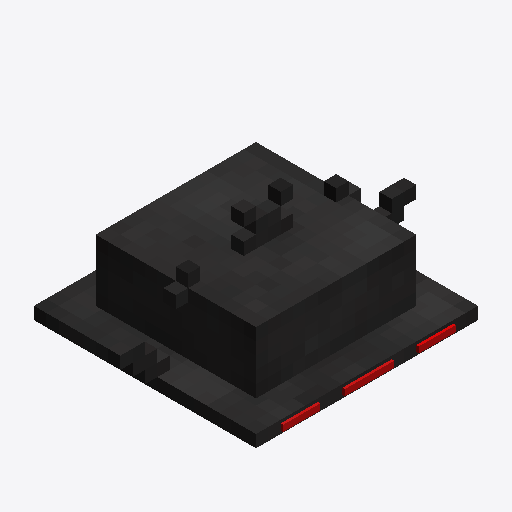
Isometric view (azimuth 45°, elevation 35.3°) of a Minecraft model made of 22 cuboids, textured from the same repository.
Visible parts, largest first — top, bottom, black (×7), 1 cube black (×2).
Boxes of the visible parts, x1,y1,x2,y2 form: top: [96, 142, 415, 397]; bottom: [34, 270, 477, 447]; black (×7): [108, 178, 415, 383]; 1 cube black (×2): [163, 174, 348, 308].
Size of the model in its own units: 24 by 9 by 18.4.